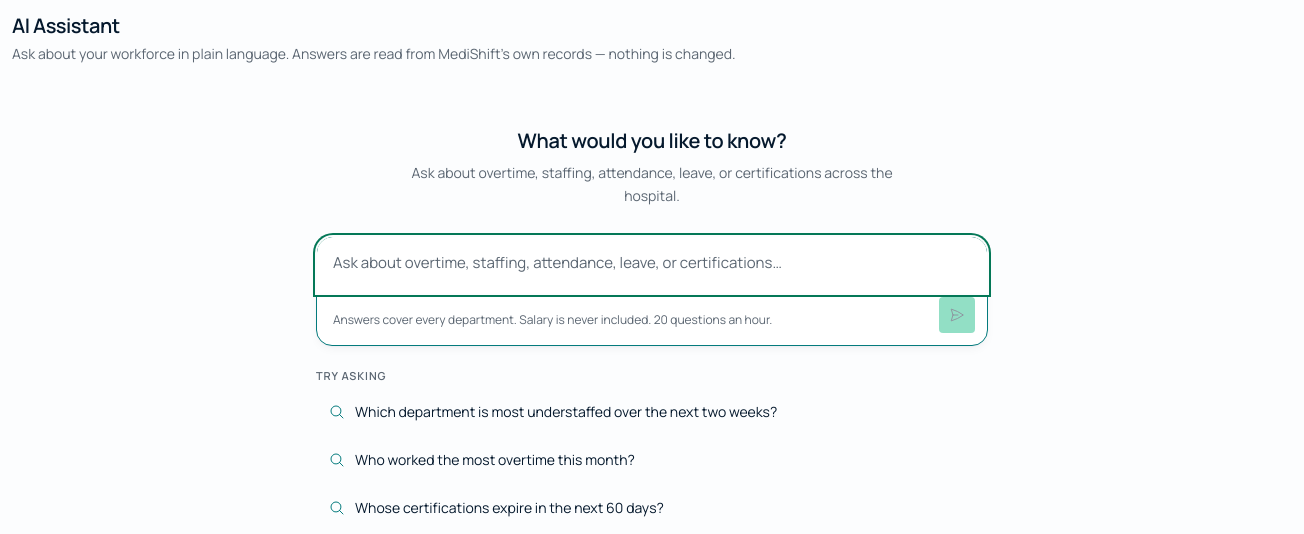
Test case: AssistantPage — asking a question › sends a suggested question on click
This screenshot has width=1304, height=534.
Click the button "Which department is most understaffed".
click(652, 412)  # box [316,390,988,432]
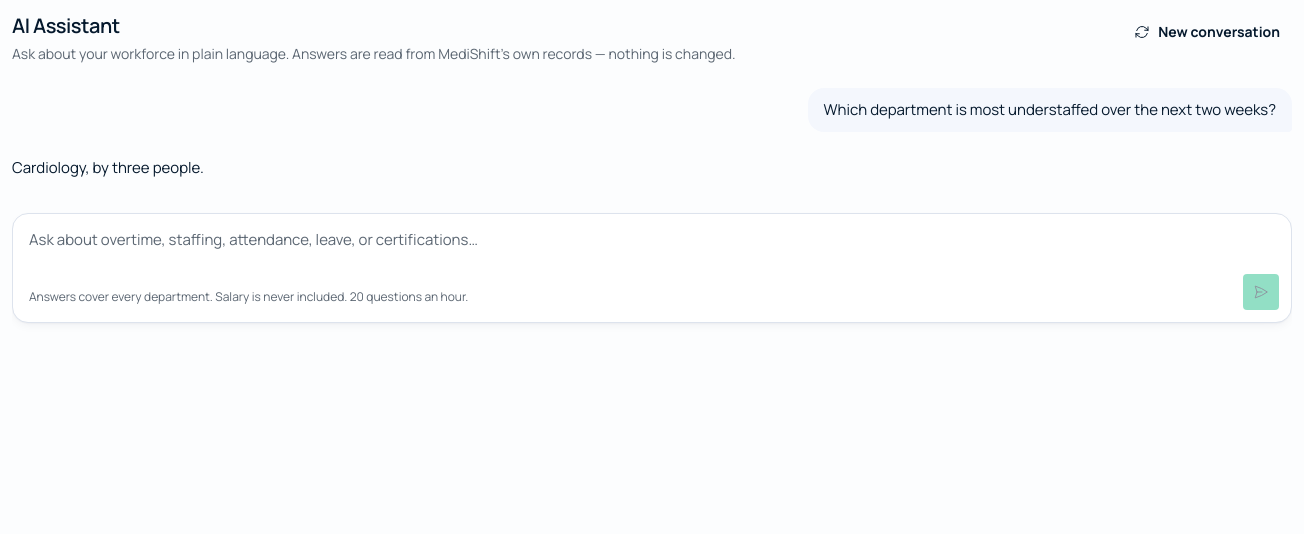
Expected: the text "Which department is most understaffed" is shown, [824,99,1276,120]
Expected: the text "Cardiology, by three people." is shown, [12,157,204,178]
